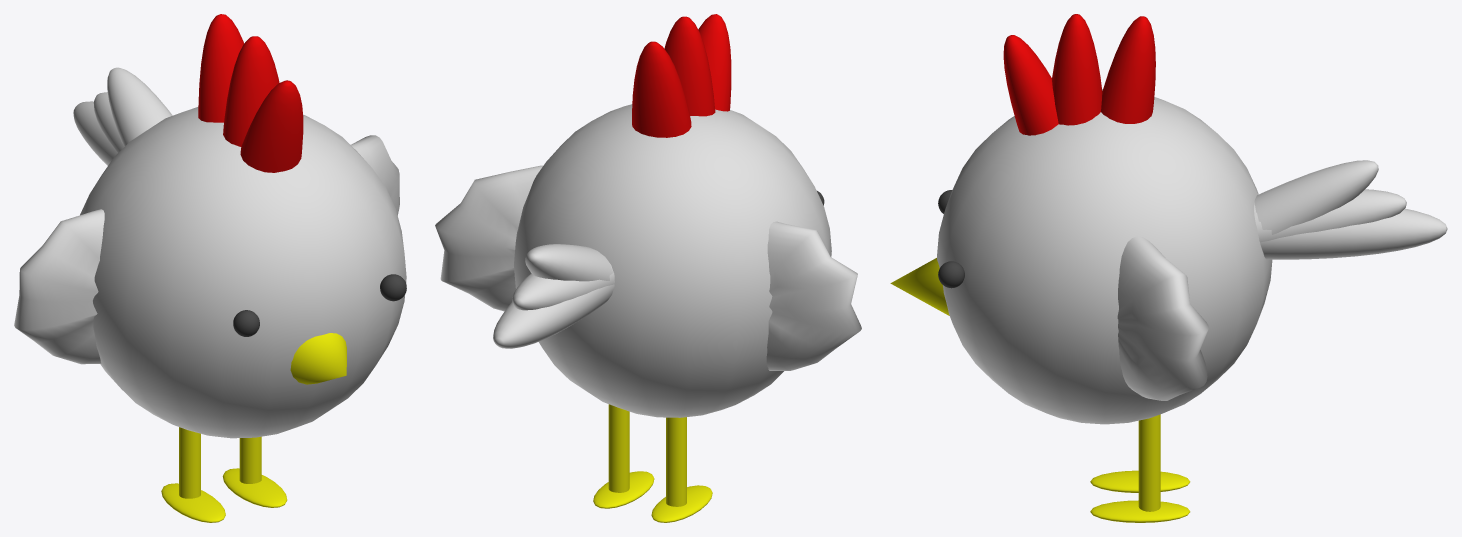
The model's file is Chicken.fbx.
The picture shows the model from 3 angles, left to right: view 1: azimuth 30°, elevation 25°; view 2: azimuth 150°, elevation 25°; view 3: azimuth 270°, elevation 25°; orthographic projection. The views are drawn at different scales.
Visible parts, largest first — view 1: pSphere21; view 2: pSphere21; view 3: pSphere21.
Part boxes in pixels (x1,y1,x2,y2): pSphere21: (14,14,406,522); pSphere21: (435,14,861,522); pSphere21: (890,14,1447,522).
Size of the model in its own units: 2.84 by 3.2 by 3.32.
